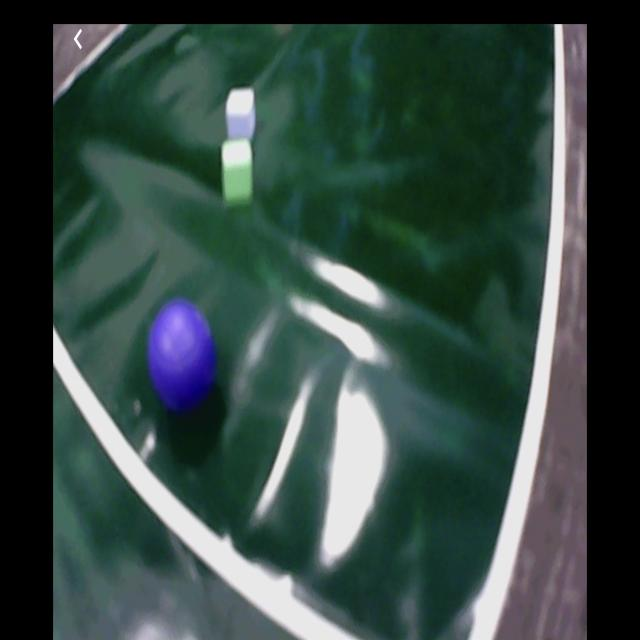ball: (150, 304, 218, 411)
